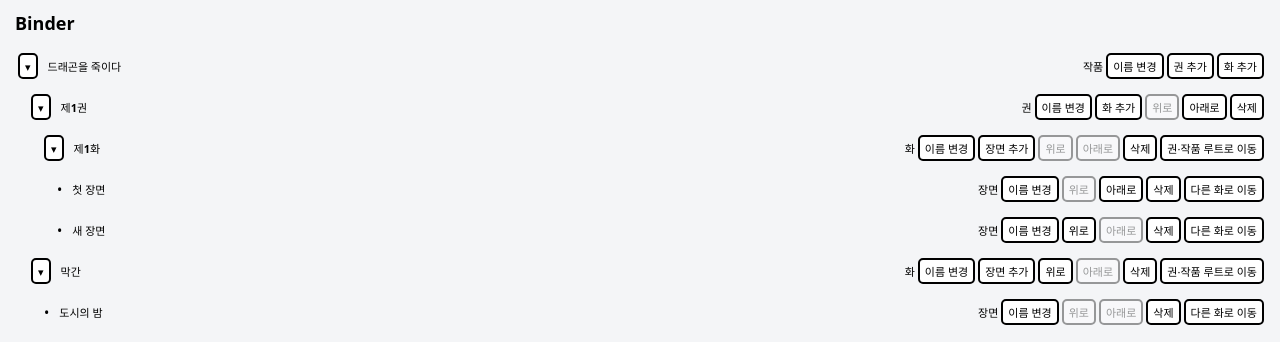
Test: Phase 1A Binder › keeps collapse controlled and hides or restores descendants
The width and height of the screenshot is (1280, 342).
Click the button named "제1권 접기". click: (41, 107)
box: [31, 94, 50, 120]
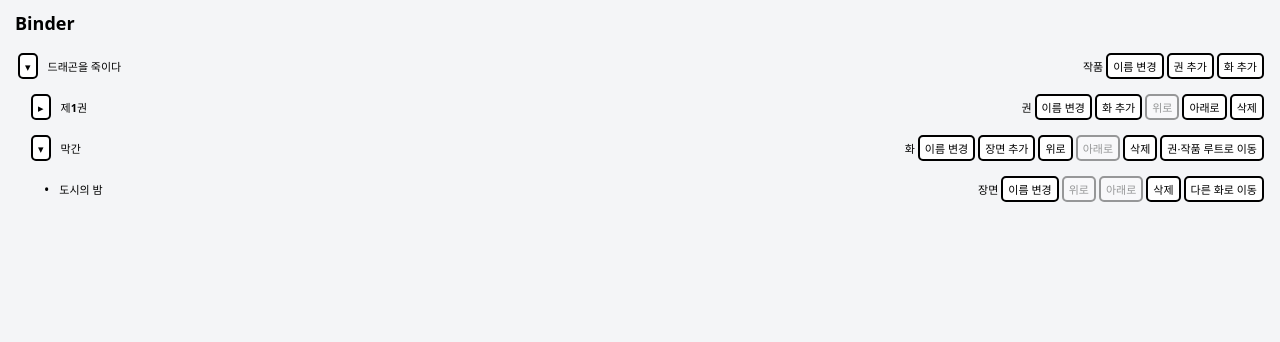
Now the button "제1화" is gone
Now the button named "제1권 펼치기" is shown
Click the button named "제1권 펼치기". click: (41, 107)
box: [31, 94, 50, 120]
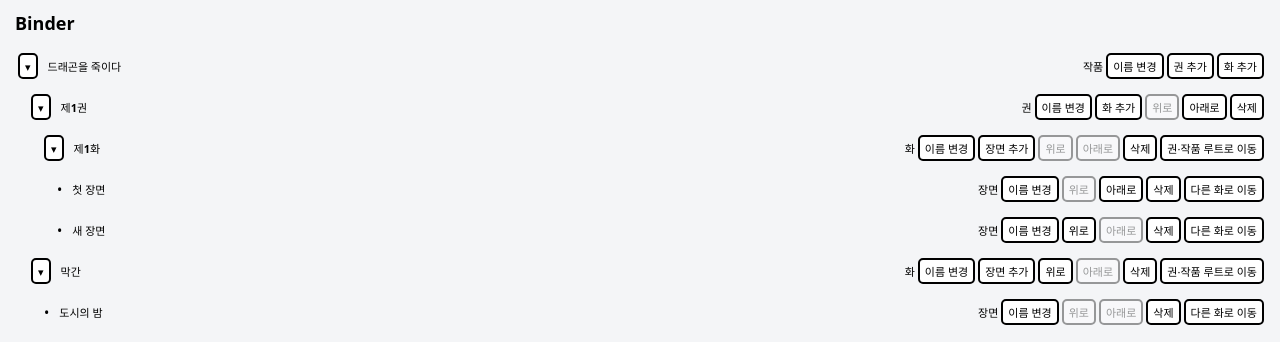
Now the button "제1화" is shown, box [66, 135, 902, 161]
